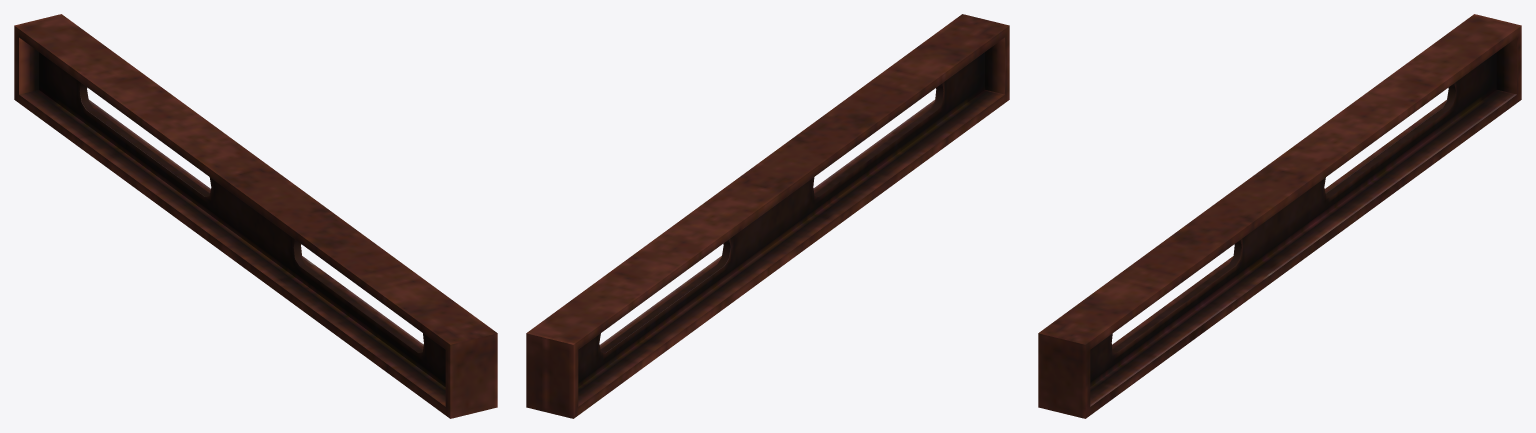
The model's file is welder_corridor.dae.
3 renders of one model, left to right at view 1: azimuth 30°, elevation 25°; view 2: azimuth 150°, elevation 25°; view 3: azimuth 330°, elevation 25°, orthographic.
Visible parts, largest first — view 1: polySurface121; view 2: polySurface121; view 3: polySurface121.
Part boxes in pixels (bbox=[...]): polySurface121: bbox=[14, 14, 497, 418]; polySurface121: bbox=[526, 14, 1009, 418]; polySurface121: bbox=[1038, 14, 1521, 418].
Size of the model in its own units: 0.206 by 0.3081 by 3.29.
